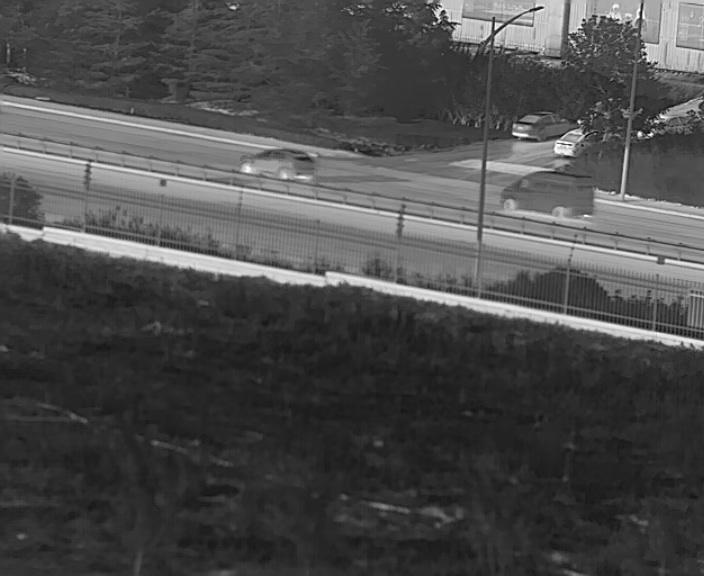vehicle: (502, 170, 596, 220), (241, 146, 317, 180), (512, 110, 560, 142), (553, 126, 583, 157)
